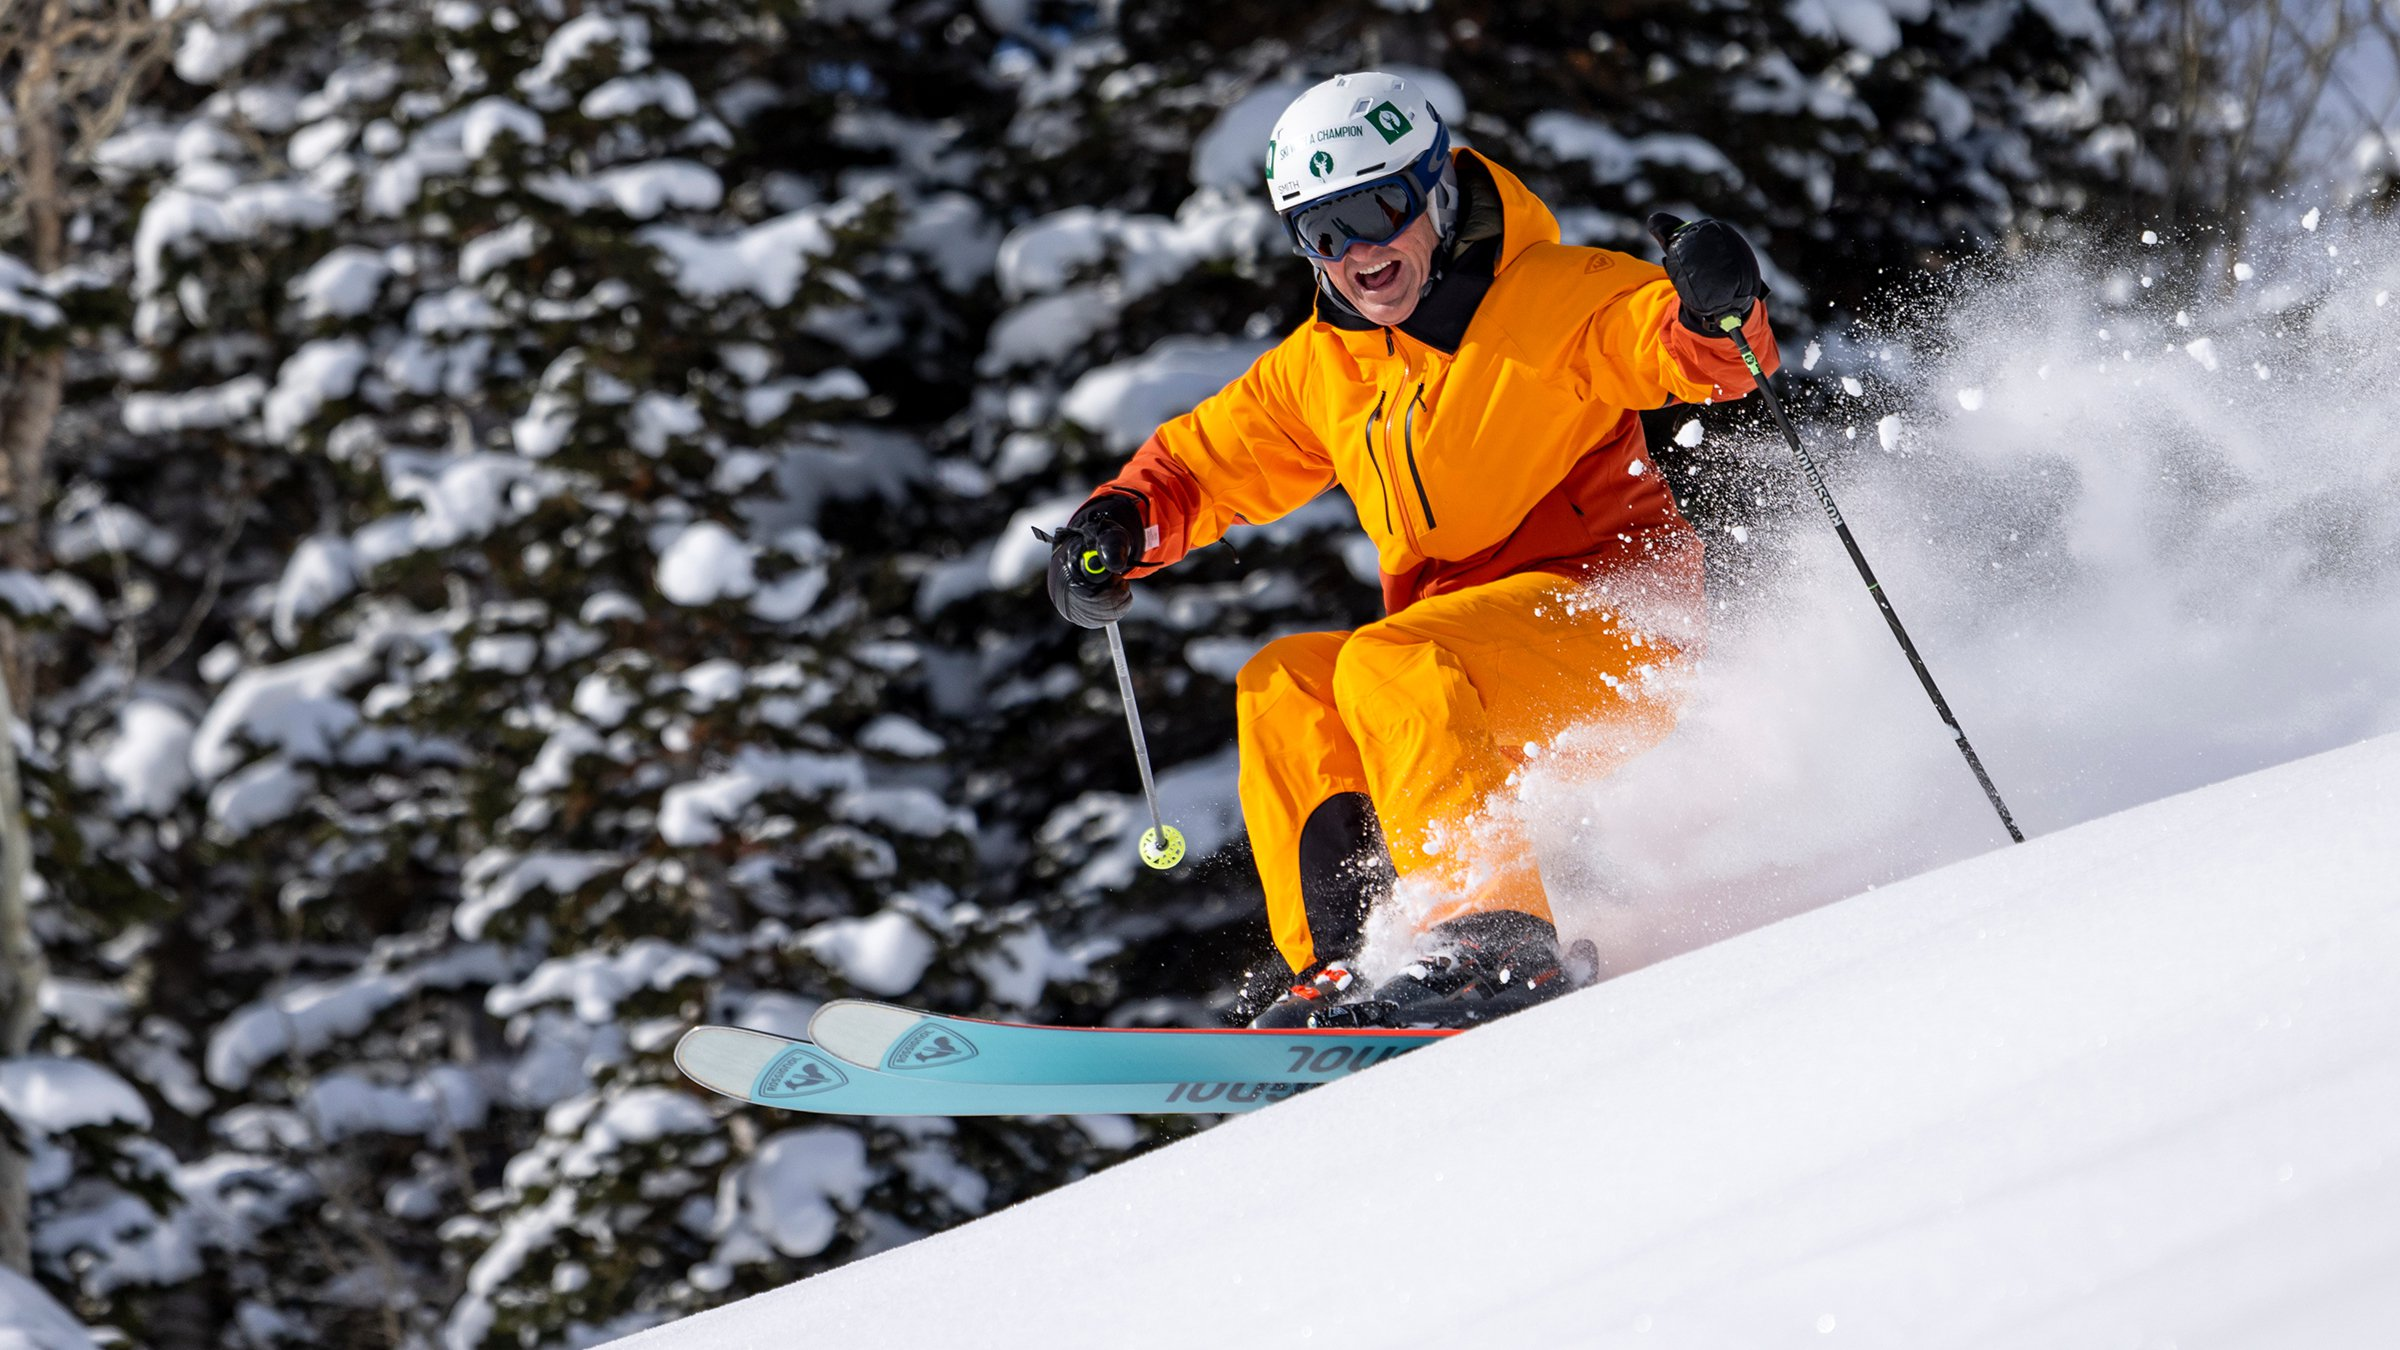skier: (673, 26, 2046, 1243)
